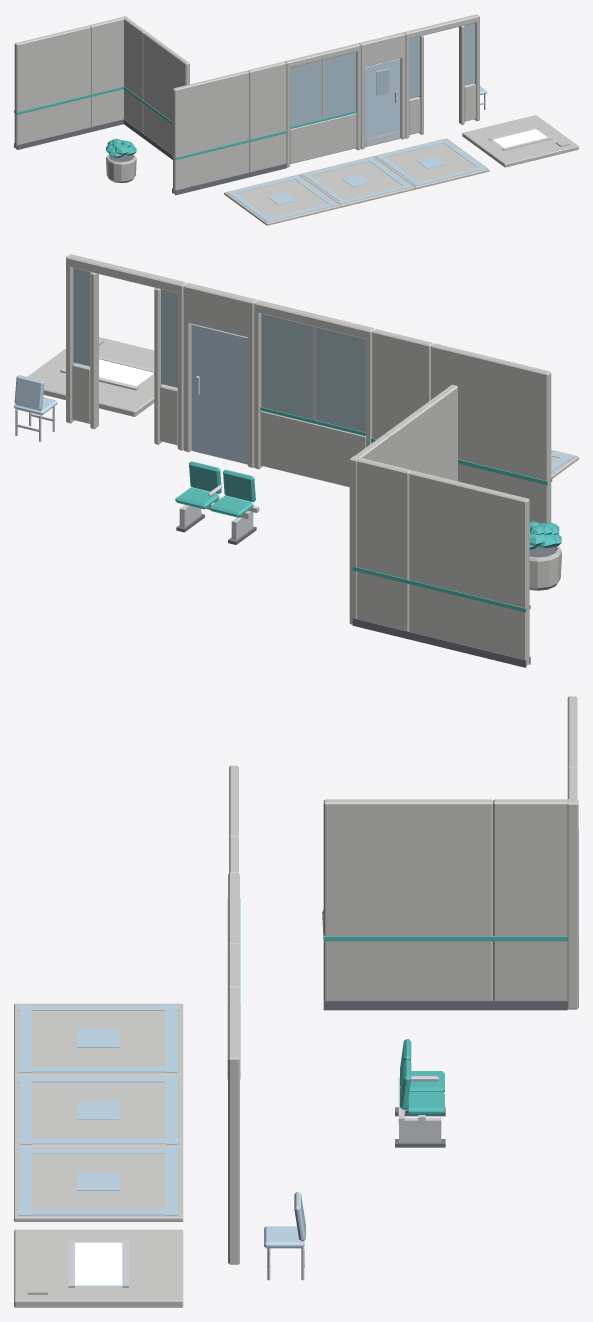
The model's file is hospital-wards-and-clinic-operations-partition-connect-34beb2a2__23666.glb.
The picture shows the model from 3 angles, top to bottom: view 1: azimuth 30°, elevation 25°; view 2: azimuth 150°, elevation 25°; view 3: azimuth 270°, elevation 25°; orthographic projection. The views are drawn at different scales.
Visible parts, largest first — view 1: 006-partition-wall/0, 000-partition-wall/0, 005-ward-bay-corner/0, 002-glazed-partition/0, 002-glazed-partition/1, 001-partition-wall-1m/0, 007-partition-wall/0, 004-glazed-partition-doorway/0, 011-ceiling-light-panel/0, 008-corridor-floor-tile/0, 009-corridor-floor-tile/0, 010-corridor-floor-tile/0 (+14 smaller); view 2: 006-partition-wall/0, 000-partition-wall/0, 005-ward-bay-corner/0, 002-glazed-partition/1, 002-glazed-partition/0, 004-glazed-partition-doorway/0, 003-door-leaf/door, 001-partition-wall-1m/0, 003-door-leaf/0, 007-partition-wall/0, 011-ceiling-light-panel/0, 004-glazed-partition-doorway/1 (+8 smaller); view 3: 007-partition-wall/0, 005-ward-bay-corner/0, 011-ceiling-light-panel/0, 010-corridor-floor-tile/0, 008-corridor-floor-tile/0, 009-corridor-floor-tile/0, 008-corridor-floor-tile/1, 009-corridor-floor-tile/1, 010-corridor-floor-tile/1, 004-glazed-partition-doorway/0, 013-waiting-bench-two-seat/2, 011-ceiling-light-panel/1 (+7 smaller).
Boxes of the visible parts, <box> form: 006-partition-wall/0: <box>14,25,90,148</box>; 000-partition-wall/0: <box>173,70,248,194</box>; 005-ward-bay-corner/0: <box>89,16,146,132</box>; 002-glazed-partition/0: <box>284,43,360,167</box>; 002-glazed-partition/1: <box>290,52,356,126</box>; 001-partition-wall-1m/0: <box>247,61,286,172</box>; 007-partition-wall/0: <box>143,32,189,154</box>; 004-glazed-partition-doorway/0: <box>403,14,479,138</box>; 011-ceiling-light-panel/0: <box>462,115,578,167</box>; 008-corridor-floor-tile/0: <box>224,174,340,225</box>; 009-corridor-floor-tile/0: <box>298,156,415,207</box>; 010-corridor-floor-tile/0: <box>373,138,489,189</box>; 006-partition-wall/0: <box>409,470,529,665</box>; 000-partition-wall/0: <box>431,343,551,523</box>; 005-ward-bay-corner/0: <box>349,434,411,631</box>; 002-glazed-partition/1: <box>261,314,365,432</box>; 002-glazed-partition/0: <box>254,300,374,487</box>; 004-glazed-partition-doorway/0: <box>66,254,186,450</box>; 003-door-leaf/door: <box>191,324,247,464</box>; 001-partition-wall-1m/0: <box>372,329,433,439</box>; 003-door-leaf/0: <box>183,282,257,467</box>; 007-partition-wall/0: <box>385,384,457,481</box>; 011-ceiling-light-panel/0: <box>27,337,154,416</box>; 004-glazed-partition-doorway/1: <box>73,268,177,387</box>; 007-partition-wall/0: <box>323,799,492,1000</box>; 005-ward-bay-corner/0: <box>493,767,578,1009</box>; 011-ceiling-light-panel/0: <box>14,1229,183,1307</box>; 010-corridor-floor-tile/0: <box>14,1146,183,1221</box>; 008-corridor-floor-tile/0: <box>14,1003,183,1075</box>; 009-corridor-floor-tile/0: <box>14,1075,183,1147</box>; 008-corridor-floor-tile/1: <box>18,1004,178,1072</box>; 009-corridor-floor-tile/1: <box>18,1076,178,1144</box>; 010-corridor-floor-tile/1: <box>18,1147,178,1215</box>; 004-glazed-partition-doorway/0: <box>228,987,239,1264</box>; 013-waiting-bench-two-seat/2: <box>400,1039,444,1114</box>; 011-ceiling-light-panel/1: <box>75,1242,122,1285</box>.
Bounding box in the file's own units: 11.34 × 2.7 × 6.68.
